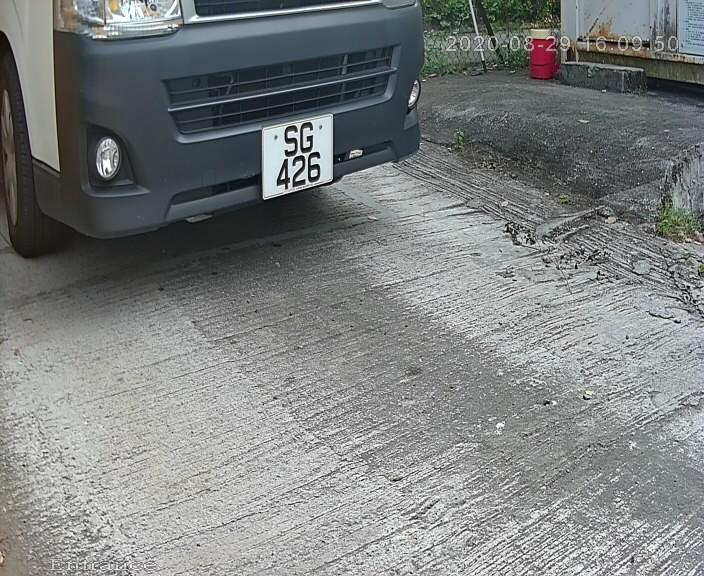License Plate: (249, 106, 346, 204)
